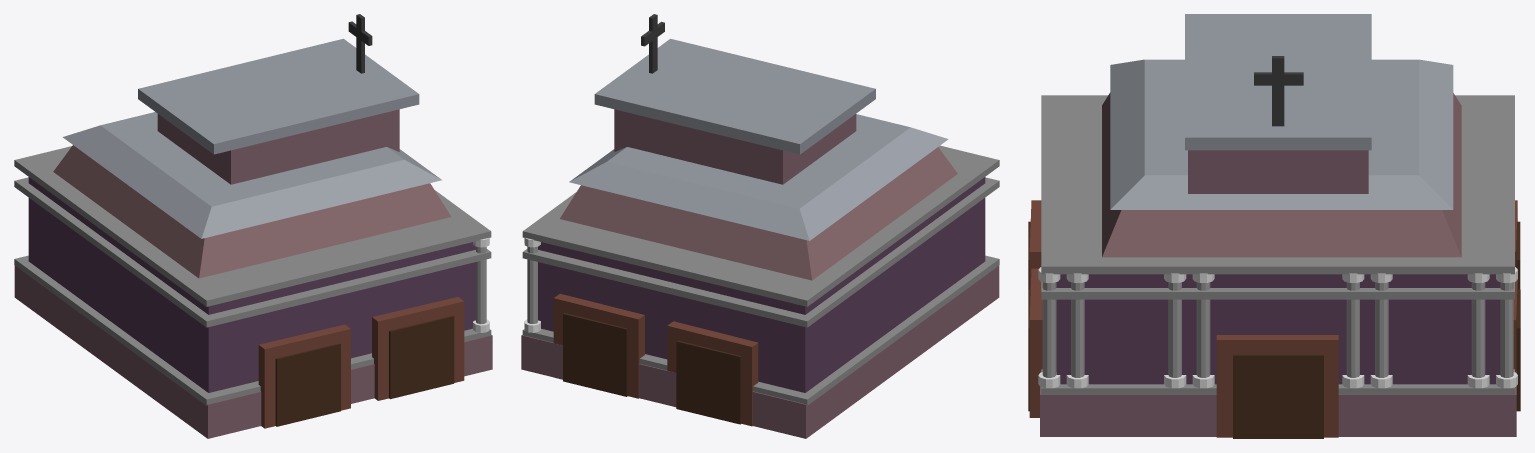
File: church.fbx
The picture shows the model from 3 angles, left to right: view 1: azimuth 30°, elevation 25°; view 2: azimuth 150°, elevation 25°; view 3: azimuth 270°, elevation 25°; orthographic projection. The views are drawn at different scales.
Parts seen in each view (by area): view 1: Cube.009, Cube, Cube.001, Cone, Cube.005, Cube.008, Cube.002, Cube.006, Cylinder, Cube.004; view 2: Cube.009, Cube, Cube.001, Cone, Cube.005, Cube.008, Cube.002, Cube.006, Cylinder, Cube.004; view 3: Cube.009, Cube.001, Cube, Cone, Cube.005, Cylinder, Cube.008, Cube.006, Cube.002, Cylinder.001, Cube.004.
Boxes of the visible parts, x1=… form: Cube.009: x1=62, y1=38, x2=441, y2=238; Cube: x1=28, y1=177, x2=475, y2=392; Cube.001: x1=14, y1=146, x2=491, y2=405; Cone: x1=53, y1=145, x2=451, y2=278; Cube.005: x1=14, y1=266, x2=492, y2=438; Cube.008: x1=275, y1=316, x2=454, y2=426; Cube.002: x1=157, y1=109, x2=399, y2=184; Cube.006: x1=258, y1=297, x2=464, y2=428; Cylinder: x1=476, y1=246, x2=486, y2=324; Cube.004: x1=348, y1=14, x2=372, y2=73; Cube.009: x1=569, y1=38, x2=948, y2=240; Cube: x1=538, y1=177, x2=985, y2=392; Cube.001: x1=522, y1=145, x2=999, y2=405; Cone: x1=560, y1=147, x2=957, y2=280; Cube.005: x1=521, y1=266, x2=999, y2=438; Cube.008: x1=563, y1=312, x2=741, y2=424; Cube.002: x1=614, y1=109, x2=856, y2=184; Cube.006: x1=553, y1=293, x2=758, y2=426; Cylinder: x1=527, y1=246, x2=537, y2=323; Cube.004: x1=641, y1=14, x2=664, y2=73; Cube.009: x1=1110, y1=14, x2=1453, y2=209; Cube.001: x1=1041, y1=95, x2=1514, y2=394; Cube: x1=1056, y1=274, x2=1500, y2=384; Cone: x1=1102, y1=92, x2=1461, y2=257; Cube.005: x1=1040, y1=371, x2=1516, y2=436; Cylinder: x1=1042, y1=282, x2=1513, y2=377; Cube.008: x1=1028, y1=221, x2=1520, y2=438; Cube.006: x1=1029, y1=200, x2=1517, y2=437; Cube.002: x1=1188, y1=150, x2=1368, y2=193; Cylinder.001: x1=1038, y1=267, x2=1517, y2=388; Cube.004: x1=1254, y1=56, x2=1303, y2=126.
Size of the model in its own units: 1514 by 1462 by 1817.
